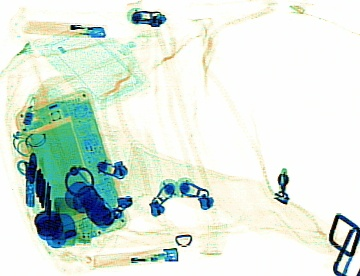lighter: (88, 246, 179, 268), (19, 18, 106, 38)
